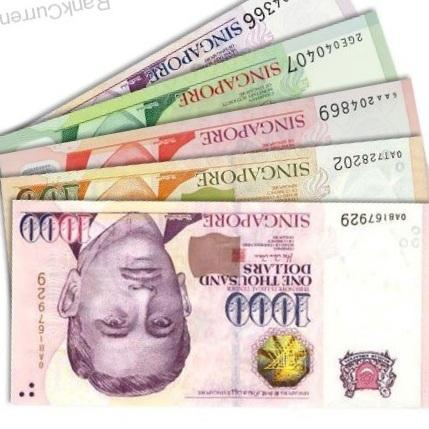1000SingaporeDollar: (19, 211, 425, 403)
